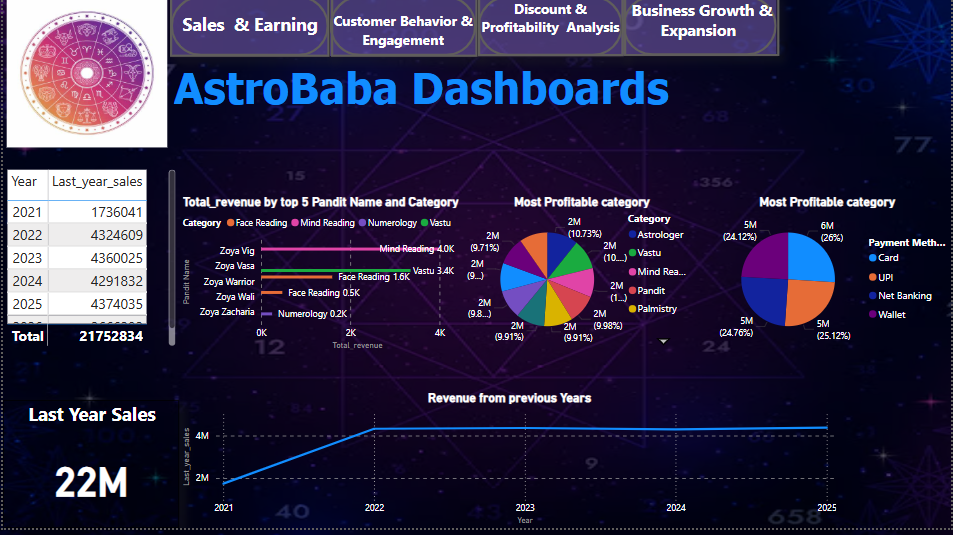

This screenshot's page, from the dashboard's own definition file:
{"tool":"powerbi","page":{"name":"Sales & earning ","canvas":[1280,720],"ordinal":0},"visuals":[{"type":"image","box":[0,0,227.5,211.3],"z":0},{"type":"textbox","box":[225,83.3,1033.3,128.3],"z":1000},{"type":"tableEx","fields":{"Values":["AstroBaba.calendar.Variation.Date Hierarchy.Year","AstroBaba.Last_year_sales"]},"box":[0,231.7,238.3,248.3],"z":2000},{"type":"card","title":"Last Year Sales","fields":{"Values":["AstroBaba.Last_year_sales"]},"box":[0,546.7,238.3,173.3],"z":3000},{"type":"lineChart","title":"Revenue from previous Years ","fields":{"Category":["AstroBaba.calendar.Variation.Date Hierarchy.Year"],"Y":["AstroBaba.Last_year_sales"]},"box":[238.3,533.3,893.3,186.7],"z":4000},{"type":"clusteredBarChart","title":"Total_revenue by top 5 Pandit Name and Category","fields":{"Y":["AstroBaba.Total_revenue"],"Category":["AstroBaba.Pandit Name"],"Series":["AstroBaba.Category"]},"box":[238.3,268.3,383.3,215],"z":5000},{"type":"pieChart","title":"Most Profitable category","fields":{"Category":["AstroBaba.Category"],"Y":["AstroBaba.Total_revenue"]},"box":[621.7,268.3,321.7,211.7],"z":6000},{"type":"pieChart","title":"Most Profitable category","fields":{"Category":["AstroBaba.Payment Method"],"Y":["AstroBaba.Total_revenue"]},"box":[946.7,268.3,333.3,211.7],"z":7000},{"type":"actionButton","box":[225.3,0,215.6,83.5],"z":8000},{"type":"textbox","box":[227.3,0,213.7,83.5],"z":9000},{"type":"actionButton","box":[641,1.9,198.1,81.6],"z":10000},{"type":"actionButton","box":[440.9,0,200.1,83.5],"z":11000},{"type":"actionButton","box":[641,0,198.1,83.5],"z":12000},{"type":"textbox","box":[440.9,0,200.1,83.5],"z":14000},{"type":"textbox","box":[440.9,0,200.1,83.5],"z":15000},{"type":"textbox","box":[641,0,198.1,83.5],"z":16000},{"type":"actionButton","box":[837.1,0,210,82.9],"z":18000},{"type":"textbox","box":[837.1,0,210,82.9],"z":19000},{"type":"actionButton","box":[225.3,0,215.6,83.5],"z":20000},{"type":"actionButton","box":[442.9,0,198.1,83.5],"z":21000},{"type":"actionButton","box":[838.6,1.4,210,81.4],"z":23000},{"type":"actionButton","box":[641.4,2.9,197.1,80],"z":24000}]}

Visuals, with their boxes in screenshot pixels (x1, y1, x2, y2), scaled from the page's 1280x720 canvas onto the 953x535 screenshot:
image: BBox(0, 0, 169, 157)
textbox: BBox(168, 62, 937, 157)
tableEx - AstroBaba.calendar.Variation.Date Hierarchy.Year x AstroBaba.Last_year_sales: BBox(0, 172, 177, 357)
"Last Year Sales" card: BBox(0, 406, 177, 534)
"Revenue from previous Years " lineChart: BBox(177, 396, 843, 534)
"Total_revenue by top 5 Pandit Name and Category" clusteredBarChart: BBox(177, 199, 463, 359)
"Most Profitable category" pieChart: BBox(463, 199, 702, 357)
"Most Profitable category" pieChart: BBox(705, 199, 952, 357)
actionButton: BBox(168, 0, 328, 62)
textbox: BBox(169, 0, 328, 62)
actionButton: BBox(477, 1, 625, 62)
actionButton: BBox(328, 0, 477, 62)
actionButton: BBox(477, 0, 625, 62)
textbox: BBox(328, 0, 477, 62)
textbox: BBox(328, 0, 477, 62)
textbox: BBox(477, 0, 625, 62)
actionButton: BBox(623, 0, 780, 62)
textbox: BBox(623, 0, 780, 62)
actionButton: BBox(168, 0, 328, 62)
actionButton: BBox(330, 0, 477, 62)
actionButton: BBox(624, 1, 781, 62)
actionButton: BBox(478, 2, 624, 62)
